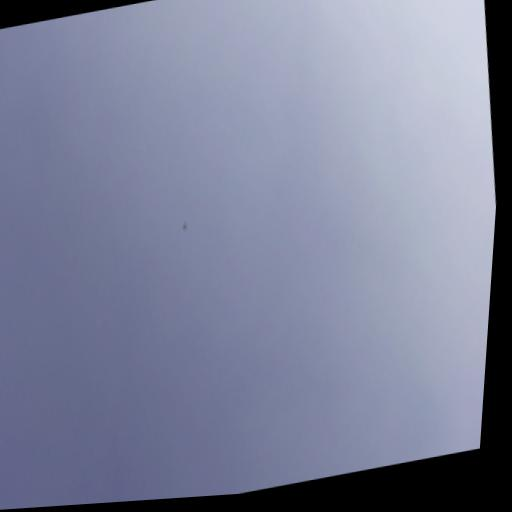drones: (181, 221, 189, 232)
